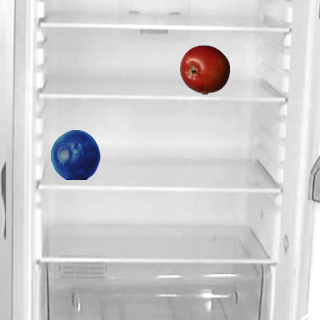Apple Braeburn: (179, 44, 229, 94)
Huckleberry: (50, 129, 100, 179)
